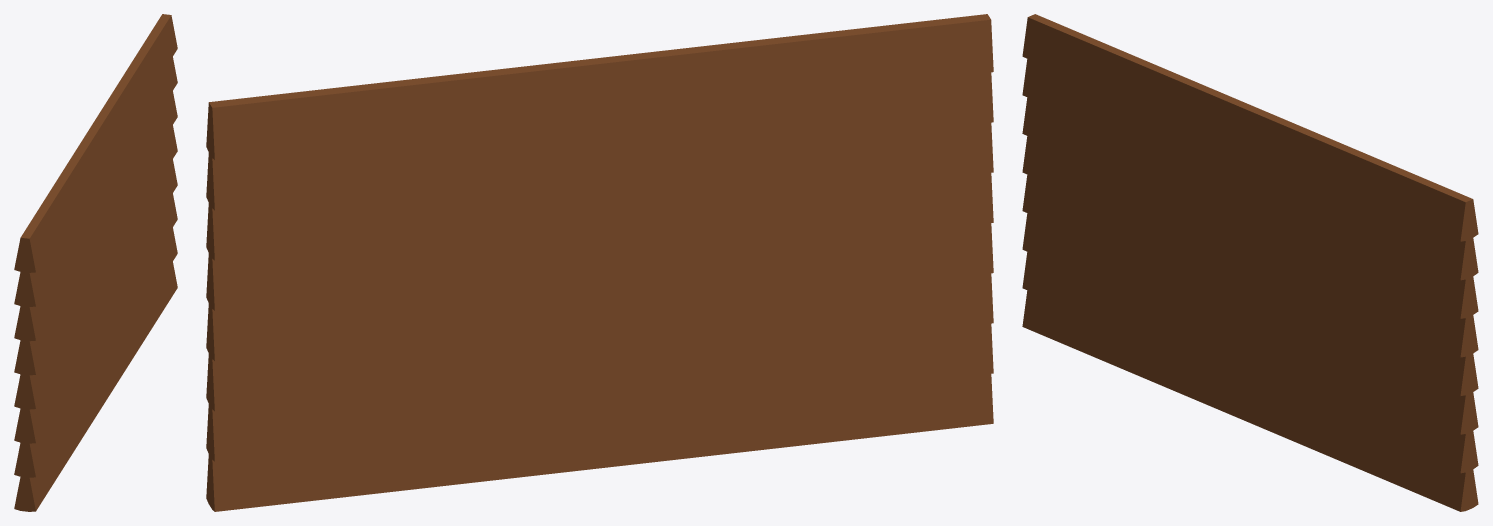
Rendered from ww_wall_b.glb.
3 renders of one model, left to right at view 1: azimuth 30°, elevation 25°; view 2: azimuth 150°, elevation 25°; view 3: azimuth 270°, elevation 25°, orthographic. The views are drawn at different scales.
Parts seen in each view (by area): view 1: Wall_B; view 2: Wall_B; view 3: Wall_B.
Part boxes in pixels (left/top/right/bottom): Wall_B: left=14, top=14, right=177, bottom=511; Wall_B: left=206, top=14, right=993, bottom=511; Wall_B: left=1022, top=14, right=1478, bottom=511.
Size of the model in its own units: 4.71 by 3.52 by 4.71.
